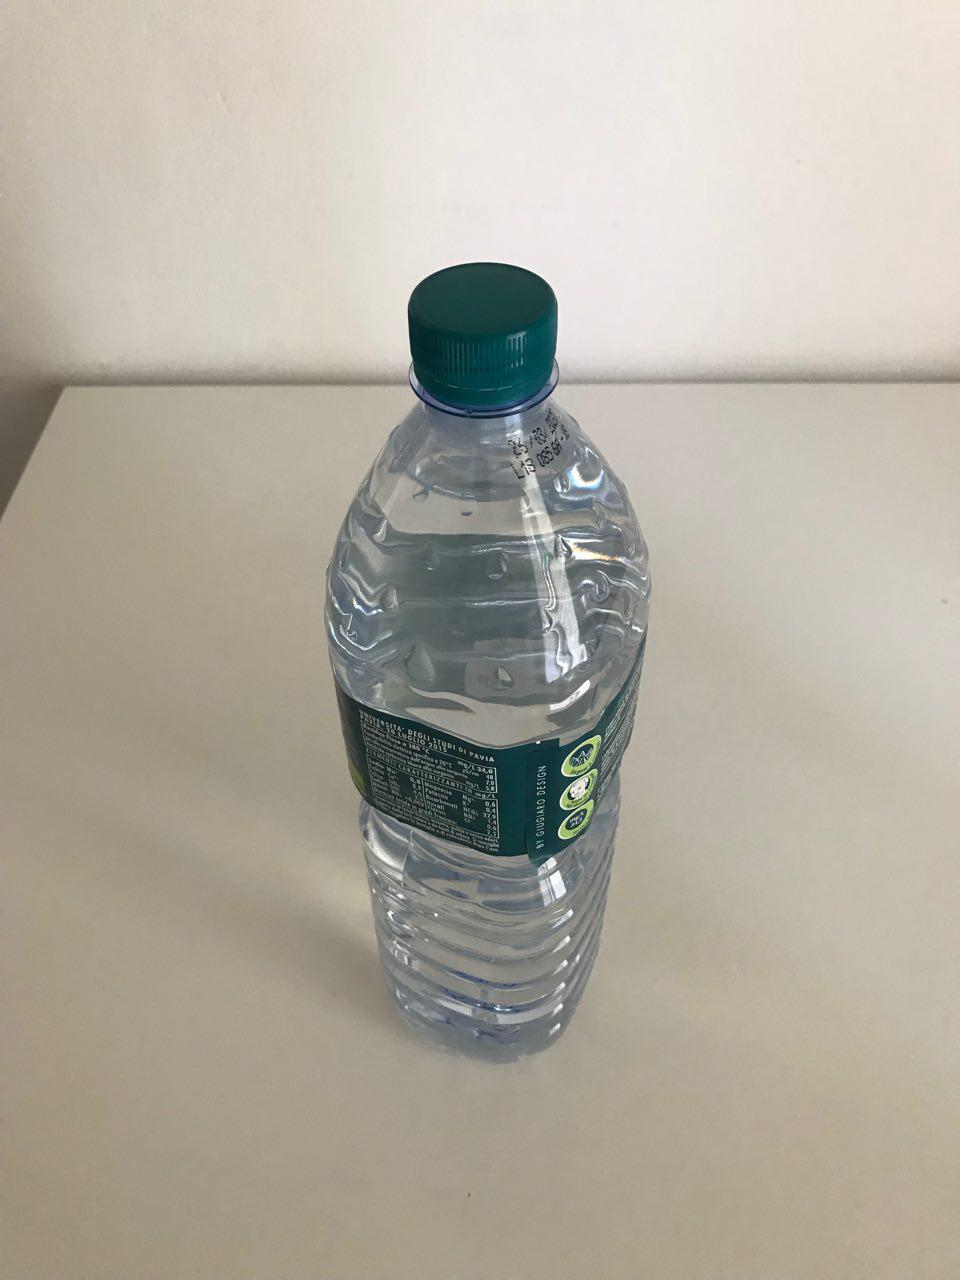san_bernardo: (323, 260, 652, 1065)
